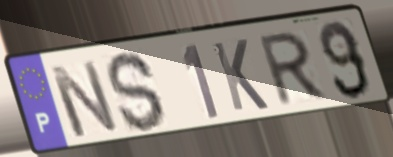1: (180, 41, 221, 122)
9: (317, 19, 372, 103)
K: (209, 37, 273, 114)
N: (45, 58, 122, 141)
R: (257, 28, 330, 110)
S: (104, 49, 169, 135)
